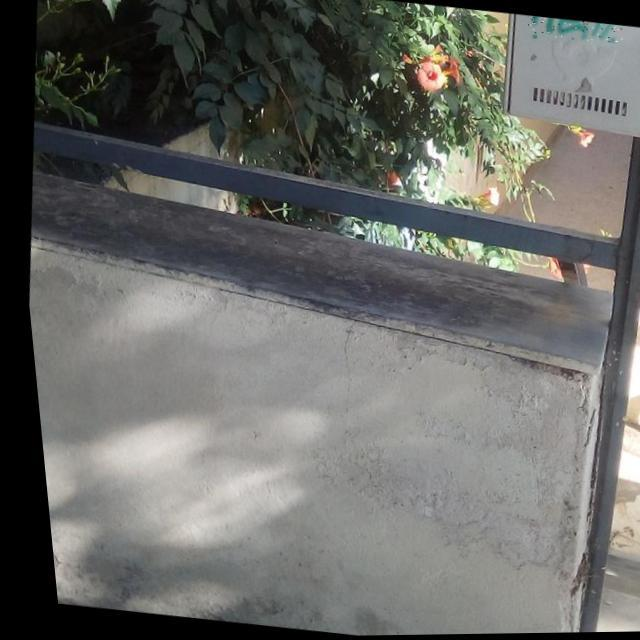-: (525, 16, 623, 47)
